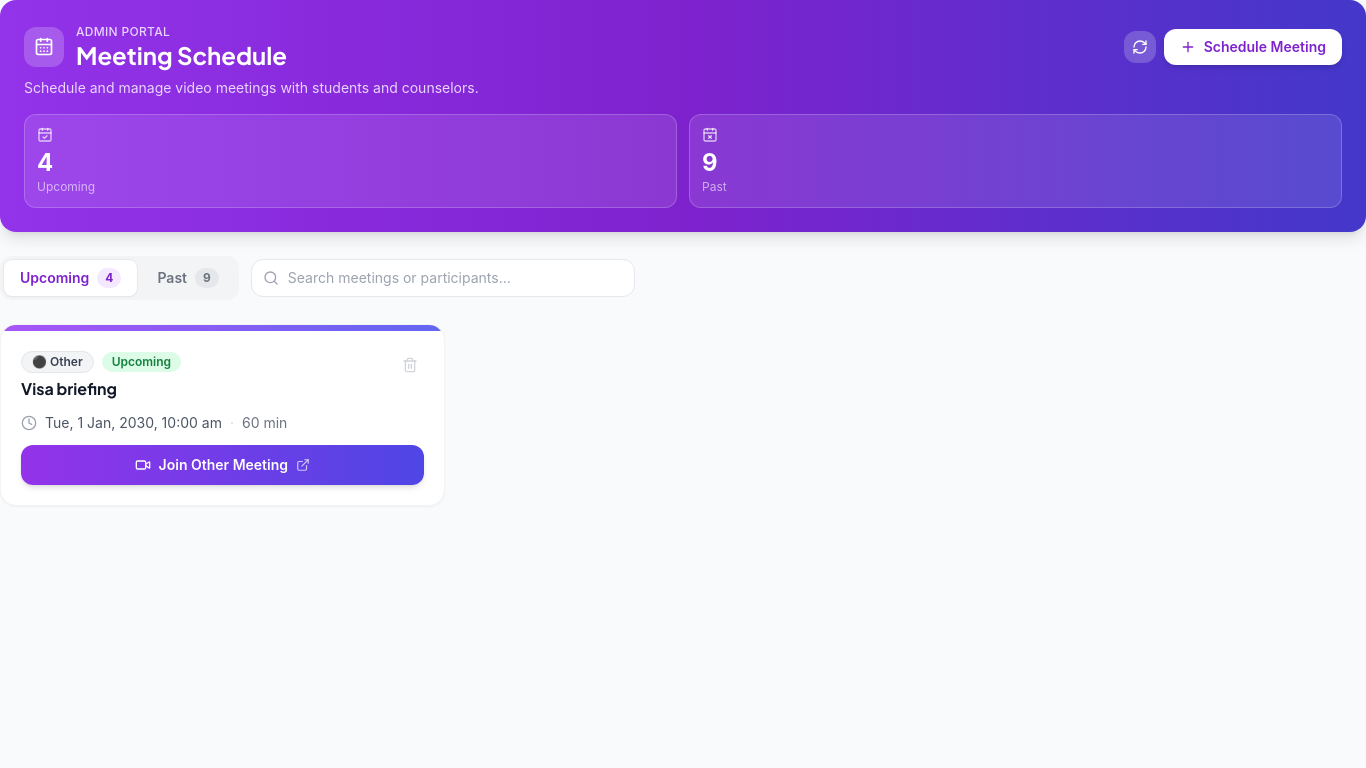
Test: AdminMeetings › loads the students only when the schedule dialog opens, and only once
Expected: the heading "Visa briefing" is shown, [21,378,117,399]
What coordinates should you click on to do the following:
click the button "Schedule Meeting"
I would click on:
 (1253, 47)
Its box is [1164,29,1342,65].
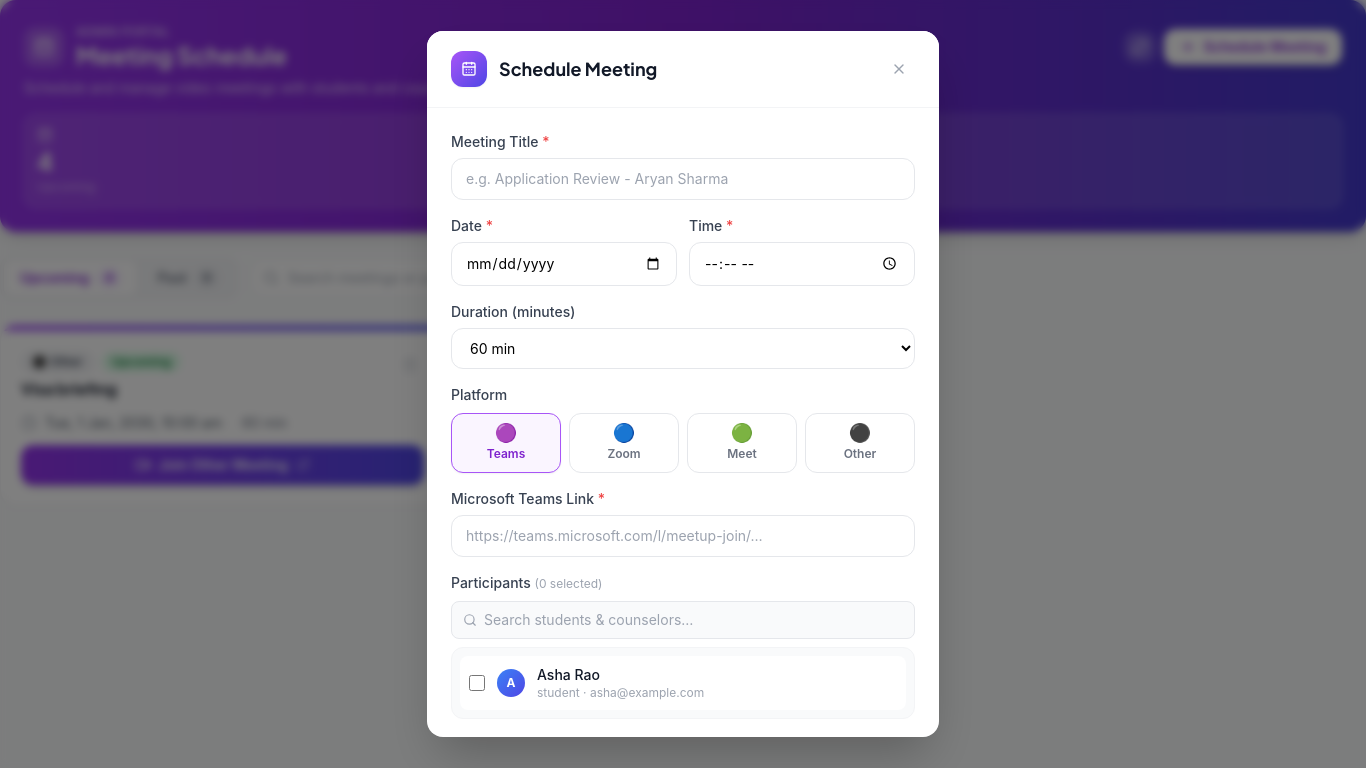
Expected: the text "Asha Rao" is shown, [537,666,600,683]
What coordinates should you click on to do the following:
click the button named "Close"
I would click on:
 (899, 69)
Its box is [883,53,915,85].
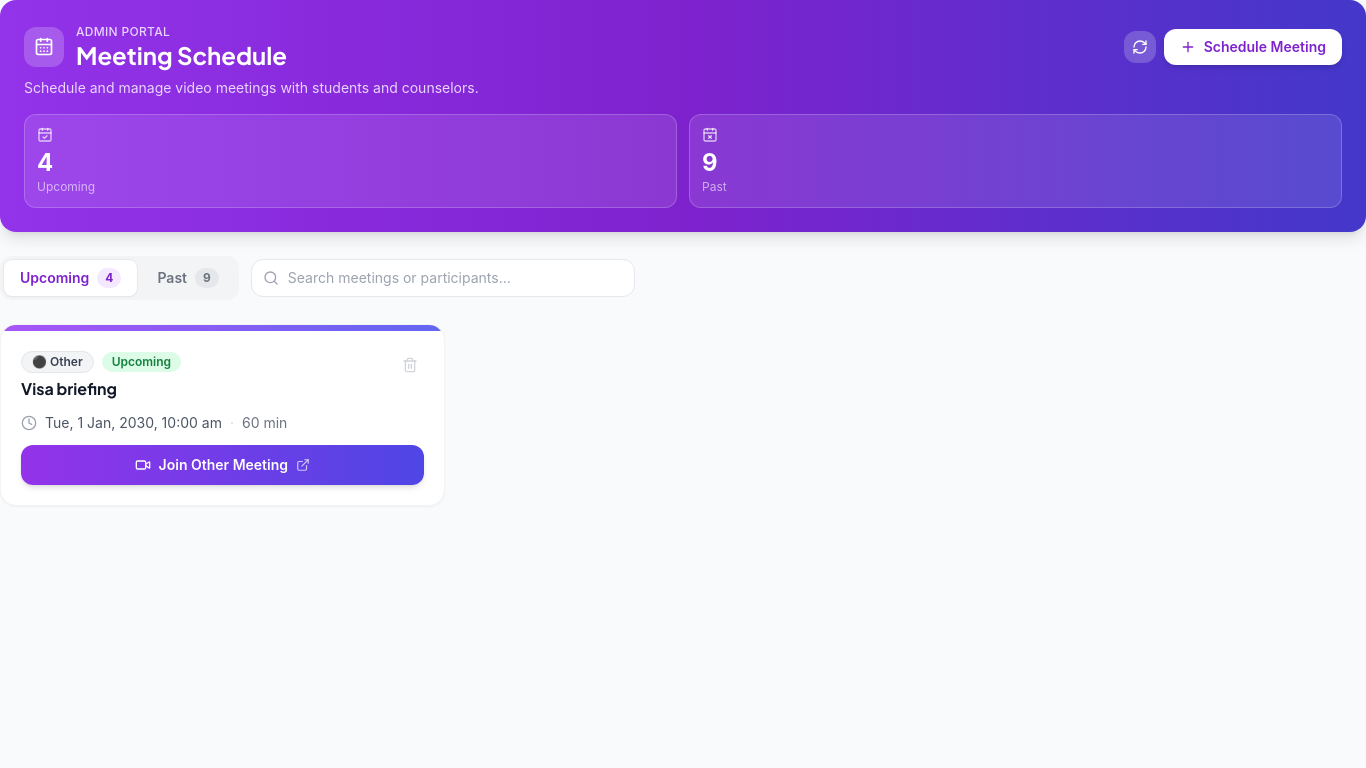
What coordinates should you click on to do the following:
click the button "Schedule Meeting"
I would click on:
 (1253, 47)
Its box is [1164,29,1342,65].
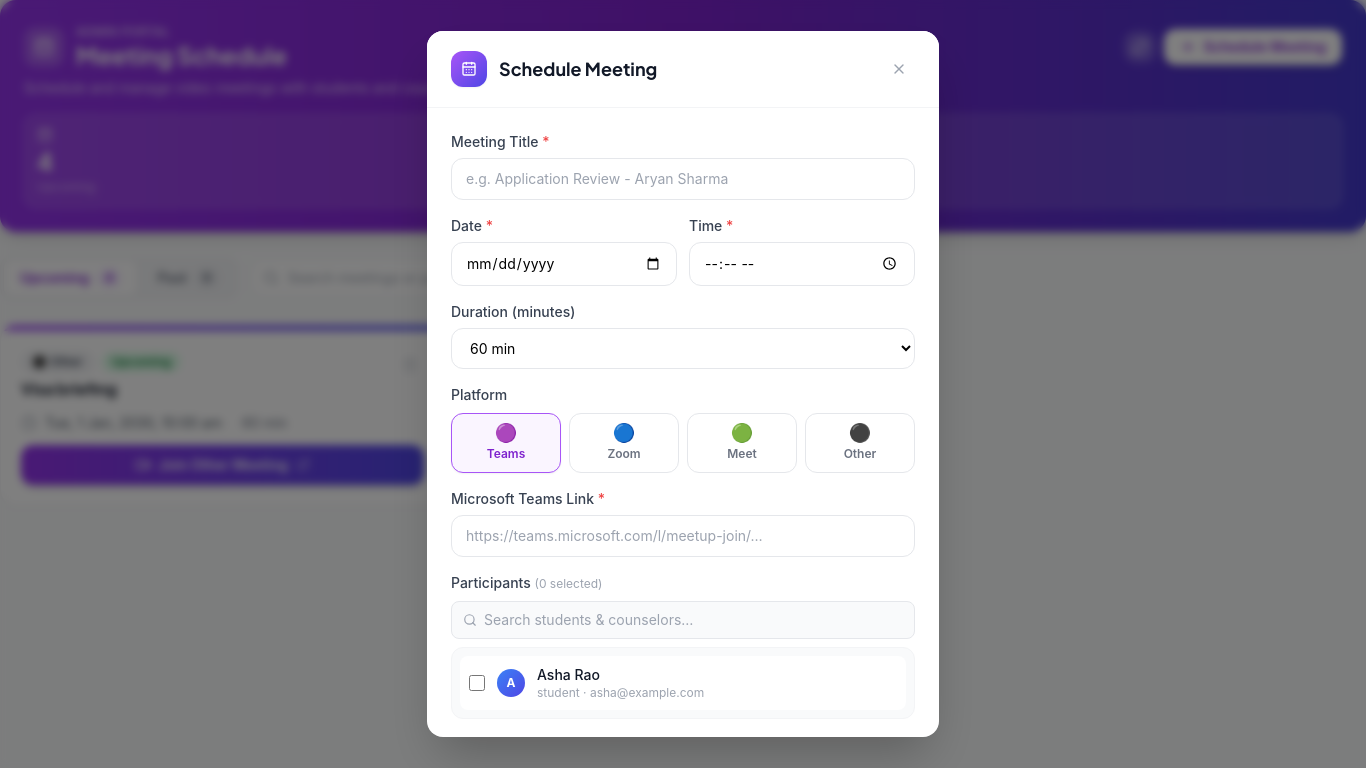
Expected: the text "Asha Rao" is shown, [537,666,600,683]
